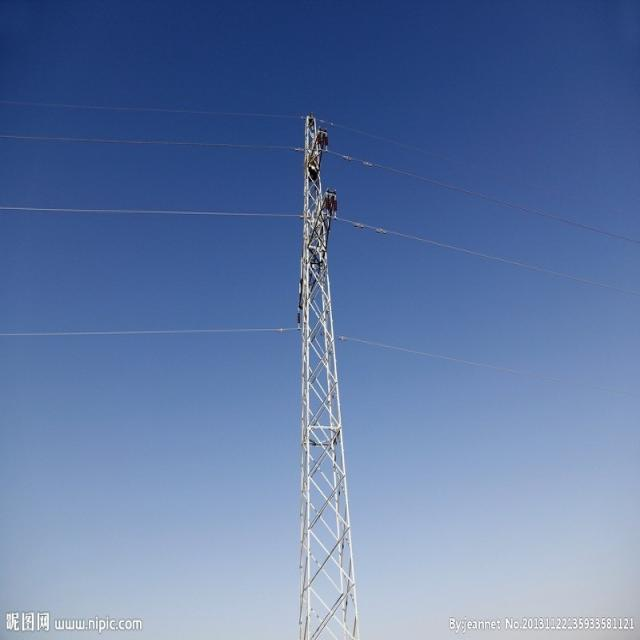non-critical vegetation: (270, 107, 370, 636)
